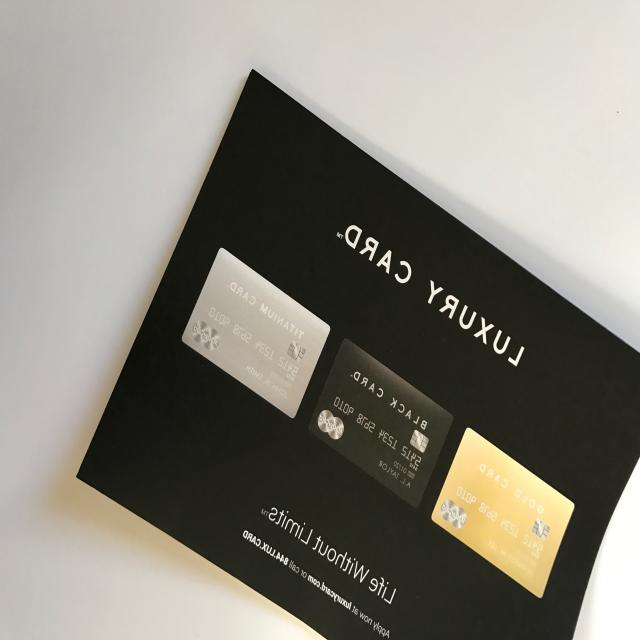paper: (2, 18, 640, 640)
